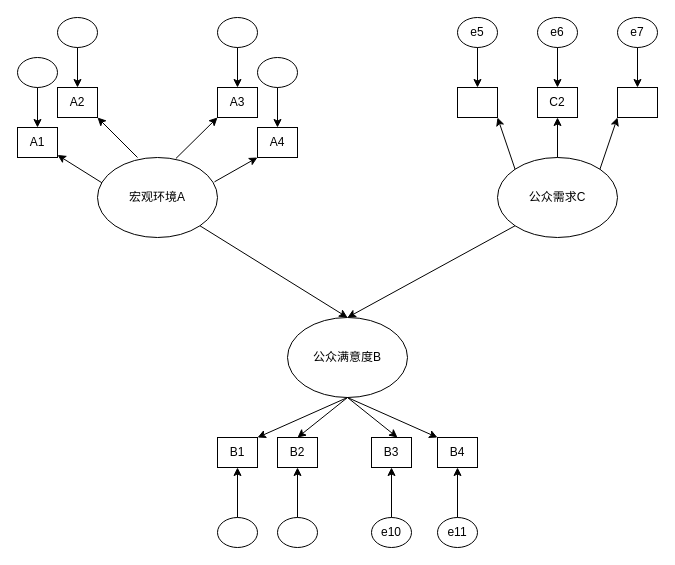
Image size: 675x565. Some labels were removed from this diagram. Here are the shapes that lost their labels. From the top down, the box of each, then its label:
(56, 16, 98, 48): e2
(216, 16, 258, 48): e3
(16, 56, 58, 88): e1
(256, 56, 298, 88): e4
(456, 86, 498, 118): C1
(616, 86, 658, 118): C3
(216, 516, 258, 548): e8
(276, 516, 318, 548): e9
